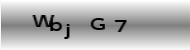7: (113, 19, 129, 33)
G: (90, 17, 106, 30)
W: (32, 14, 55, 27)
b: (49, 16, 62, 32)
j: (62, 22, 72, 40)
